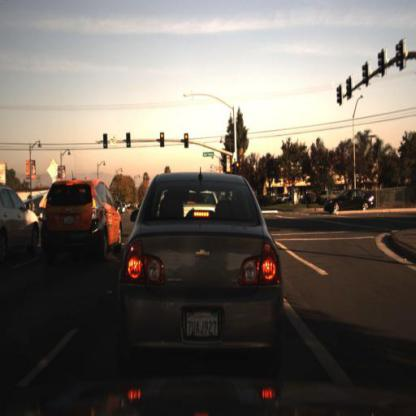car: (122, 174, 281, 374), (43, 177, 126, 262), (1, 184, 44, 263), (321, 186, 376, 216)
trafficLight-GreenLeft: (103, 130, 111, 151), (125, 131, 133, 152)
trafficLight-Red: (183, 133, 191, 153), (160, 130, 168, 149), (235, 161, 243, 179)
